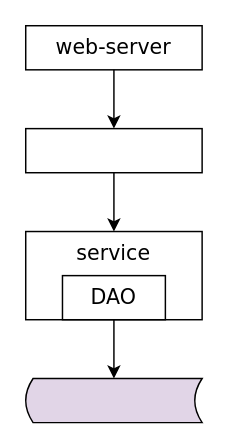
Image size: 228x448. Some labels were removed from this diagram. Each missing label, with the centre of its shape:
"biz-service" belongs at [113,150].
"db" belongs at [113,400].
